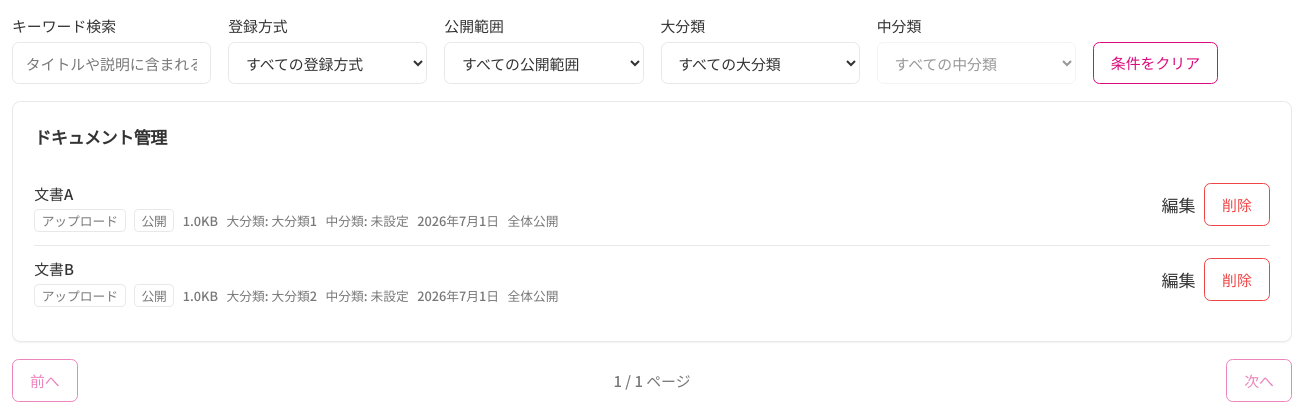
DocumentManagementListClient › 大分類・中分類の絞り込み › 大分類で絞り込むと該当カテゴリのドキュメントのみ表示する
The image size is (1304, 419).
Select "大分類1" in the dropdown labelled "大分類" at [760, 63], box [660, 42, 860, 84]
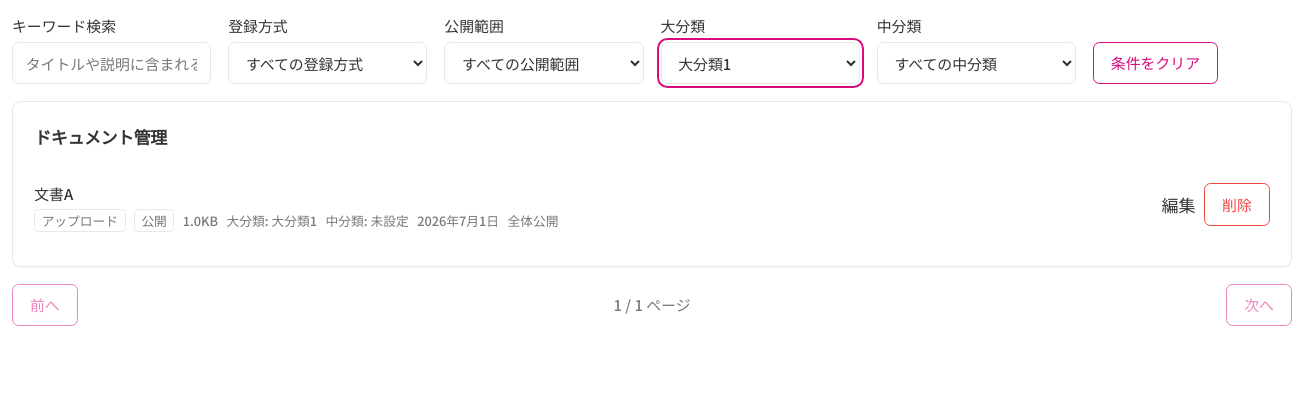
Expected: the text "文書A" is shown, [34, 183, 73, 204]
Result: the text "文書B" is gone
